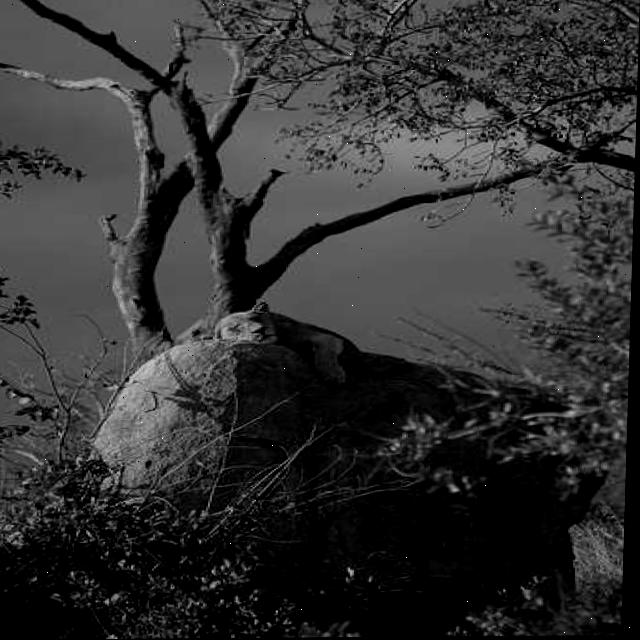Lion: (228, 273, 375, 391)
